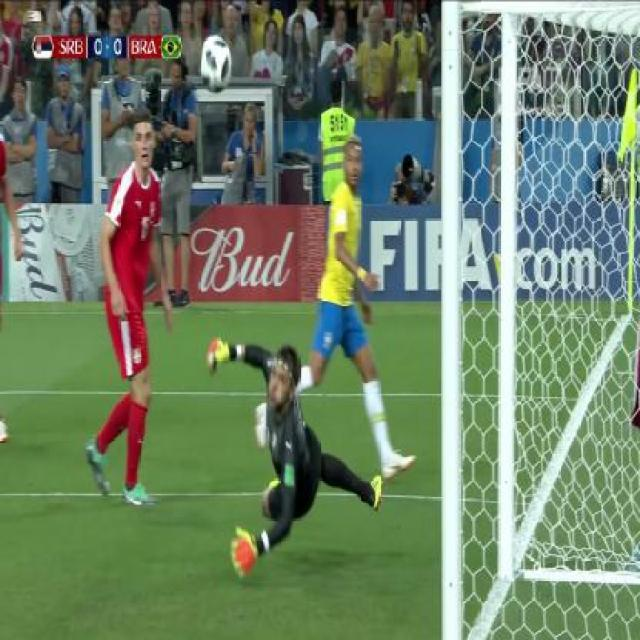ball: (197, 29, 234, 97)
player: (273, 117, 410, 496), (79, 99, 187, 518), (201, 339, 366, 587)
